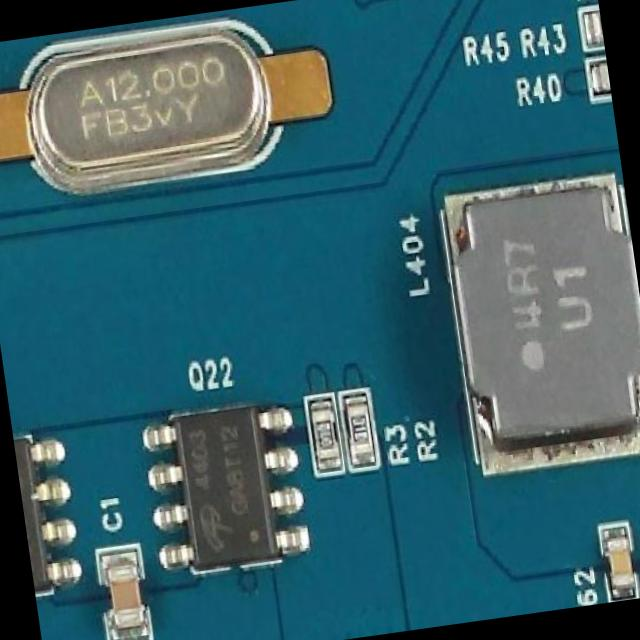IC: (144, 390, 304, 580)
capacitor: (104, 552, 147, 634), (604, 530, 636, 590)
resistor: (344, 397, 376, 467), (311, 404, 337, 465)
